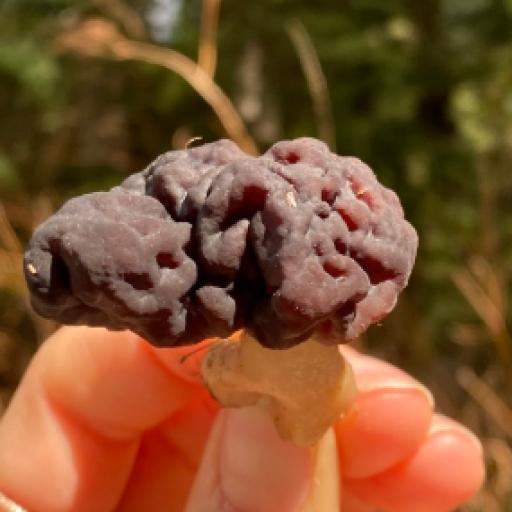False Morel: (5, 111, 414, 424)
